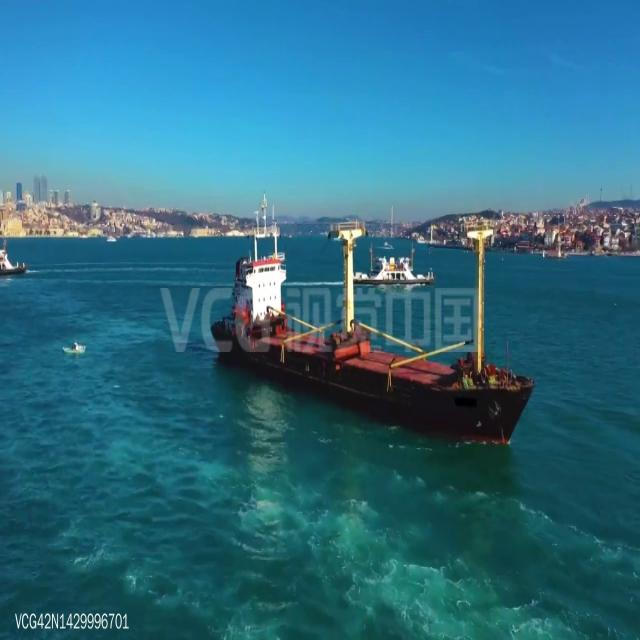cargoship: (194, 230, 532, 448)
fishing boat: (347, 243, 436, 288)
houseboat: (0, 240, 28, 277), (63, 334, 87, 359)
